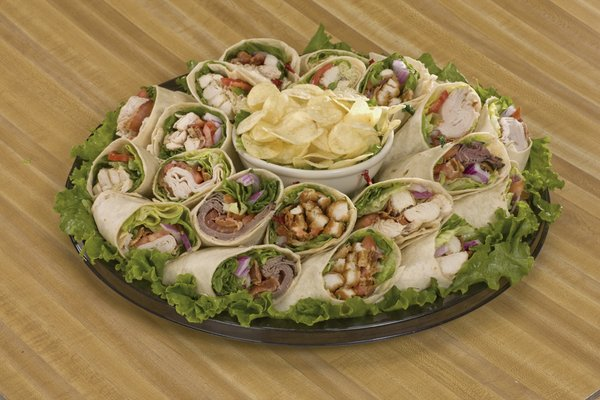sushi: (224, 40, 404, 188), (193, 167, 282, 248), (269, 181, 357, 254)
